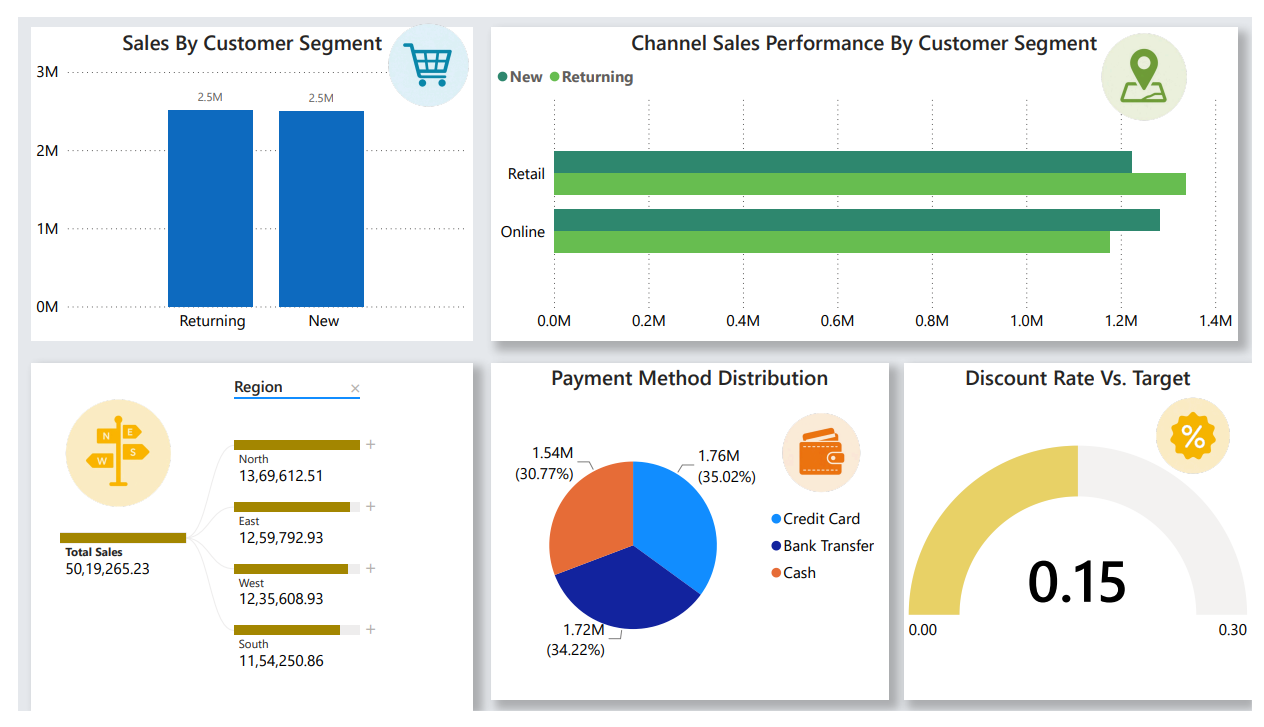

What the dashboard file says about the page in this screenshot:
{"tool":"powerbi","page":{"name":"Customer & Channel Behaviour","canvas":[1280,720],"ordinal":3},"visuals":[{"type":"clusteredBarChart","title":"Channel Sales Performance By Customer Segment","fields":{"Category":["Dim_Channel.Sales_Channel"],"Series":["Dim_Customer Type.Customer_Type"],"Y":["Measure.Total Sales"]},"box":[491.5,11.1,773,324.5],"z":0},{"type":"pieChart","title":"Payment Method Distribution","fields":{"Category":["Dim_Payment Method.Payment_Method"],"Y":["Measure.Total Sales"]},"box":[491.5,359.5,412,348.3],"z":1000},{"type":"gauge","title":"Discount Rate Vs. Target","fields":{"Y":["Measure.Average Discount %"]},"box":[919.4,359.5,361.1,348.3],"z":2000},{"type":"columnChart","title":"Sales By Customer Segment","fields":{"Category":["Dim_Customer Type.Customer_Type"],"Y":["Measure.Total Sales"]},"box":[14.3,11.1,458.1,324.5],"z":3000},{"type":"decompositionTreeVisual","fields":{"Analyze":["Measure.Total Sales"],"ExplainBy":["Dim_Region.Region","Dim_Channel.Sales_Channel","Dim_Customer Type.Customer_Type"]},"box":[14.3,359.5,458.1,361.1],"z":4000},{"type":"image","box":[39.8,391.3,127.2,124.1],"z":5000},{"type":"image","box":[348.3,0,155.9,98.6],"z":6000},{"type":"image","box":[1100.7,11.1,135.2,103.4],"z":7000},{"type":"image","box":[747.6,405.6,171.8,93.8],"z":8000},{"type":"image","box":[1158,391.3,122.5,87.5],"z":9000}]}

Visuals, with their boxes in screenshot pixels (x1, y1, x2, y2), scaled from the page's 1280x720 canvas onto the 1264x727 screenshot:
"Channel Sales Performance By Customer Segment" clusteredBarChart: box=[485, 11, 1249, 339]
"Payment Method Distribution" pieChart: box=[485, 363, 892, 715]
"Discount Rate Vs. Target" gauge: box=[908, 363, 1263, 715]
"Sales By Customer Segment" columnChart: box=[14, 11, 466, 339]
decompositionTreeVisual - Measure.Total Sales x Dim_Region.Region: box=[14, 363, 466, 726]
image: box=[39, 395, 165, 520]
image: box=[344, 0, 498, 100]
image: box=[1087, 11, 1220, 116]
image: box=[738, 410, 908, 504]
image: box=[1144, 395, 1263, 483]
